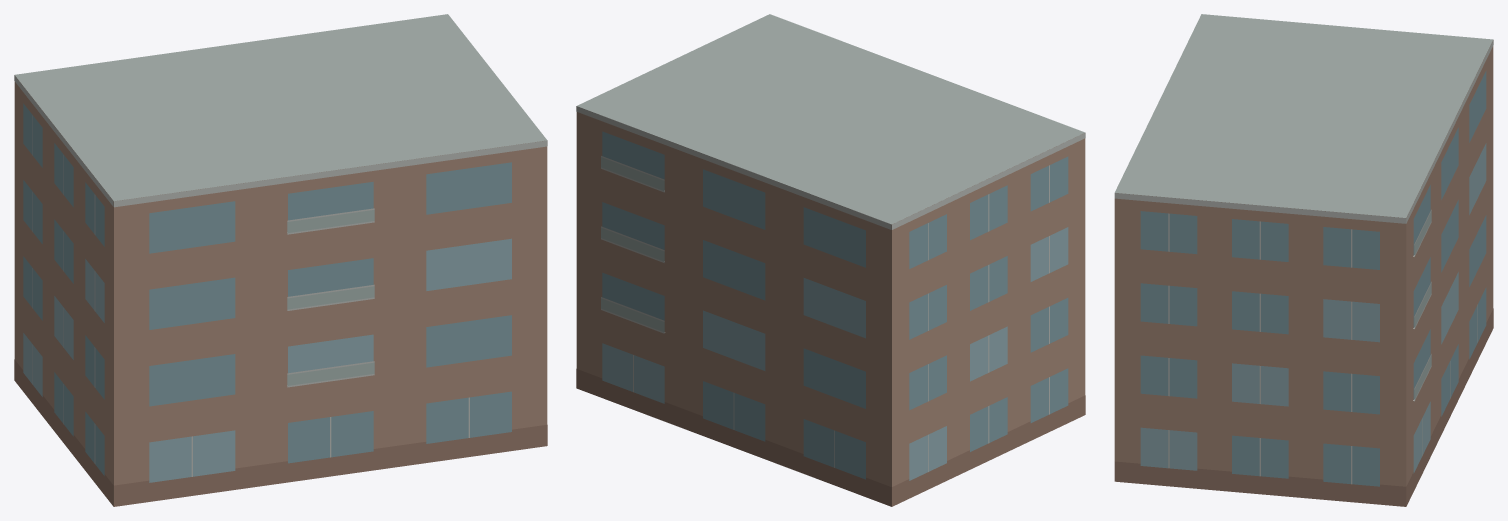
File: residential-85daa740-9c08-4153-8dc3-08f4bed9d167.glb
3 views of the same model, side by side, from view 1: azimuth 30°, elevation 25°; view 2: azimuth 150°, elevation 25°; view 3: azimuth 270°, elevation 25° (orthographic). The views are drawn at different scales.
Visible parts, largest first — view 1: residential-85daa740-9c08-4153-8dc3-08f4bed9d167.tmp; view 2: residential-85daa740-9c08-4153-8dc3-08f4bed9d167.tmp; view 3: residential-85daa740-9c08-4153-8dc3-08f4bed9d167.tmp.
Part boxes in pixels (x1=…): residential-85daa740-9c08-4153-8dc3-08f4bed9d167.tmp: x1=14, y1=14, x2=547, y2=506; residential-85daa740-9c08-4153-8dc3-08f4bed9d167.tmp: x1=576, y1=14, x2=1085, y2=506; residential-85daa740-9c08-4153-8dc3-08f4bed9d167.tmp: x1=1114, y1=14, x2=1493, y2=506.
Size of the model in its own units: 18.5 by 12.2 by 14.52.
